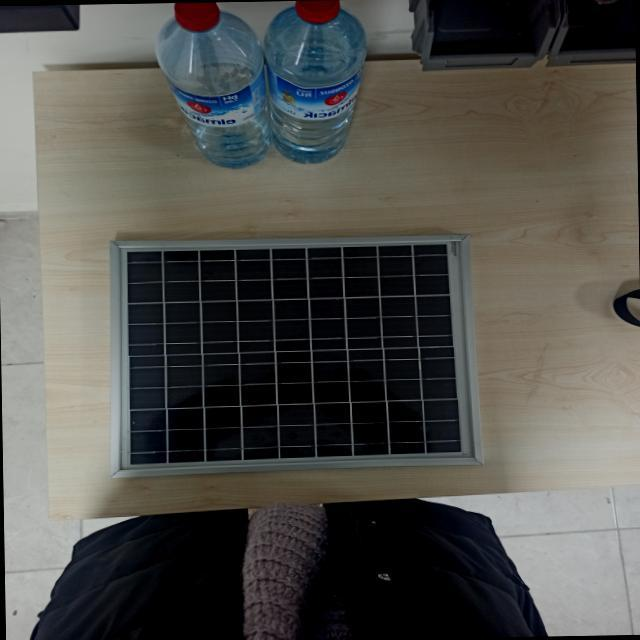no faulty: (116, 234, 484, 470)
